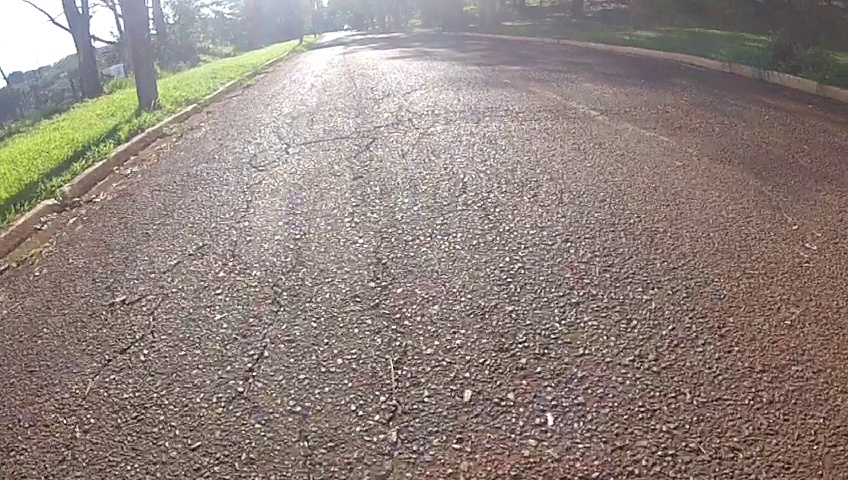TLT: (224, 251, 293, 422)
